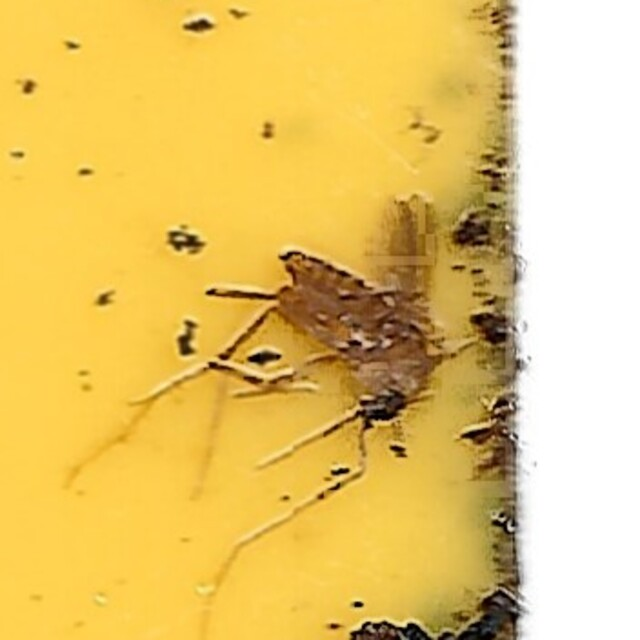Nematocera: (182, 183, 458, 457)
